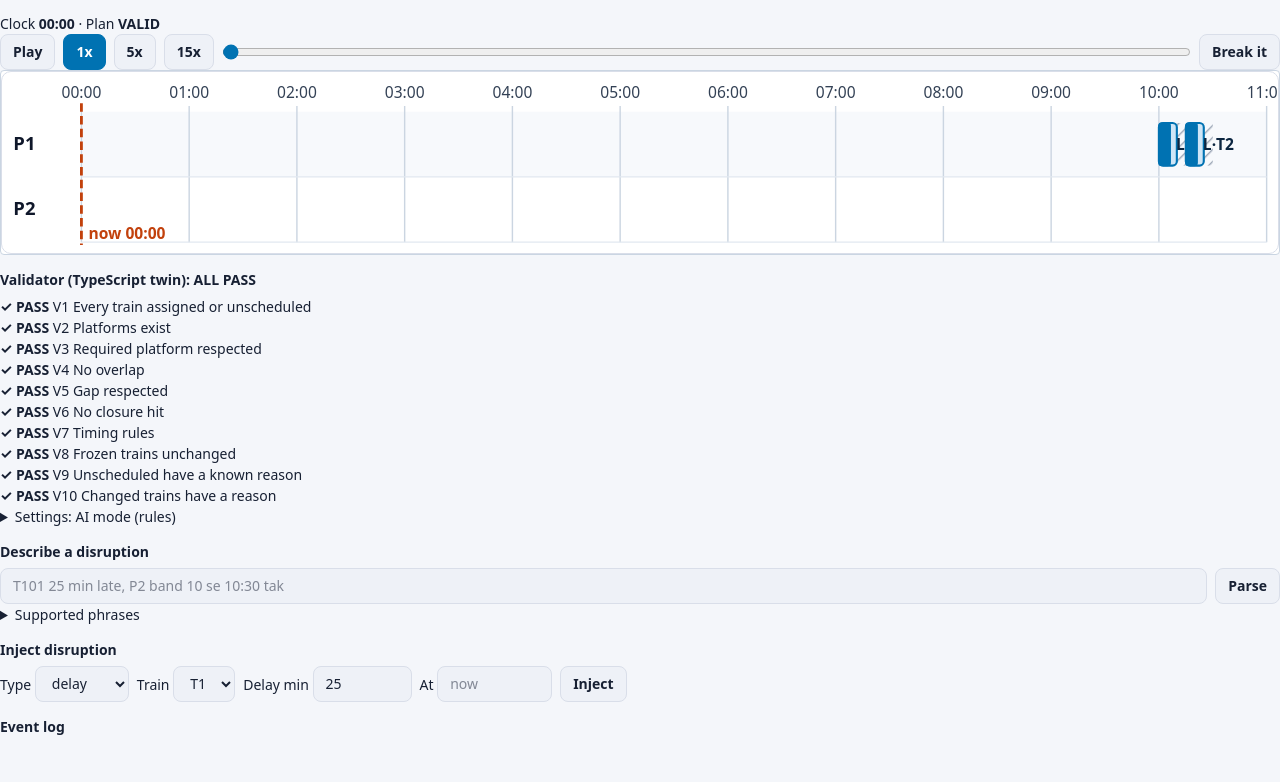
Scenario: SimulationPanel › inject, review, accept
Expected: the text with test id "live" reads "VALID", [118,14,160,32]
What coordinates should you click on to do the following:
click the button "Inject"
I would click on:
 (593, 684)
Its box is [560,666,627,702].
(page scrolled)
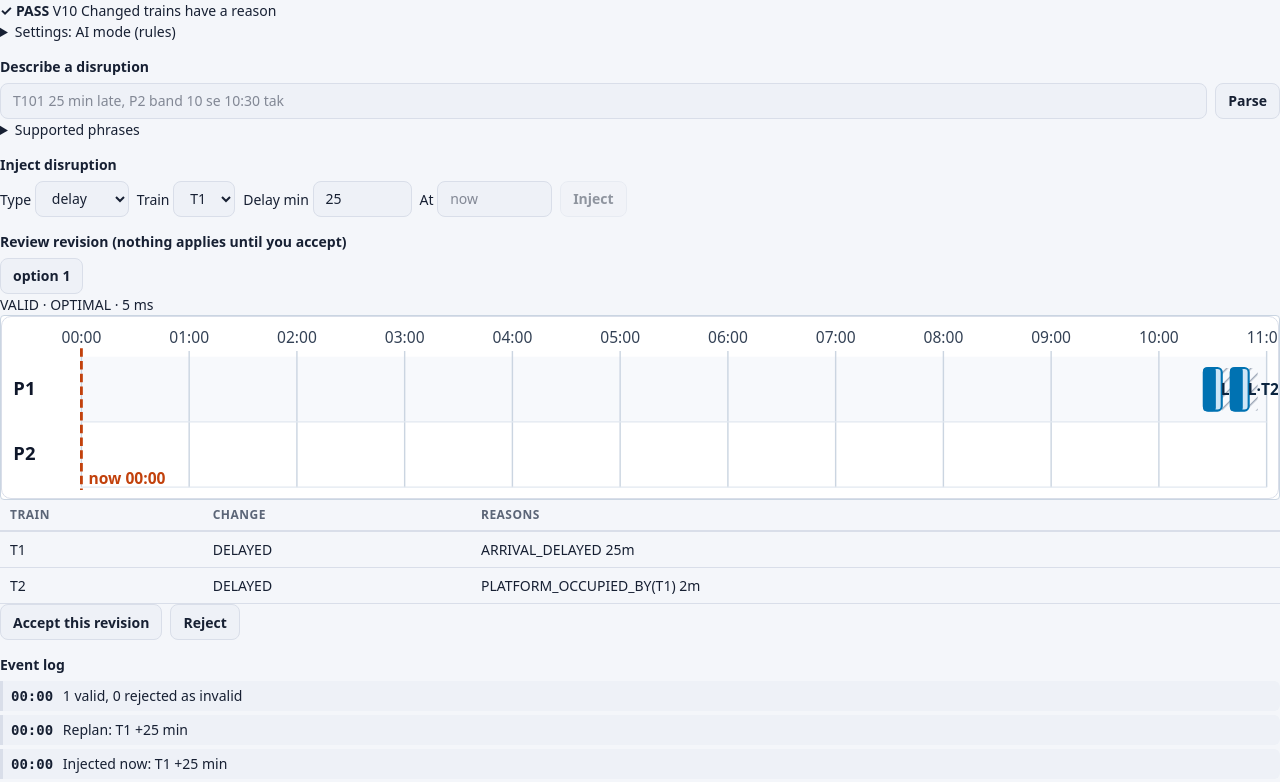
Expected: the table with test id "diff" shows "ARRIVAL_DELAYED", [481,540,635,559]
What coordinates should you click on to do the following:
click the button "Accept this revision"
I would click on:
 (81, 622)
Its box is [0,604,162,640].
(page scrolled)
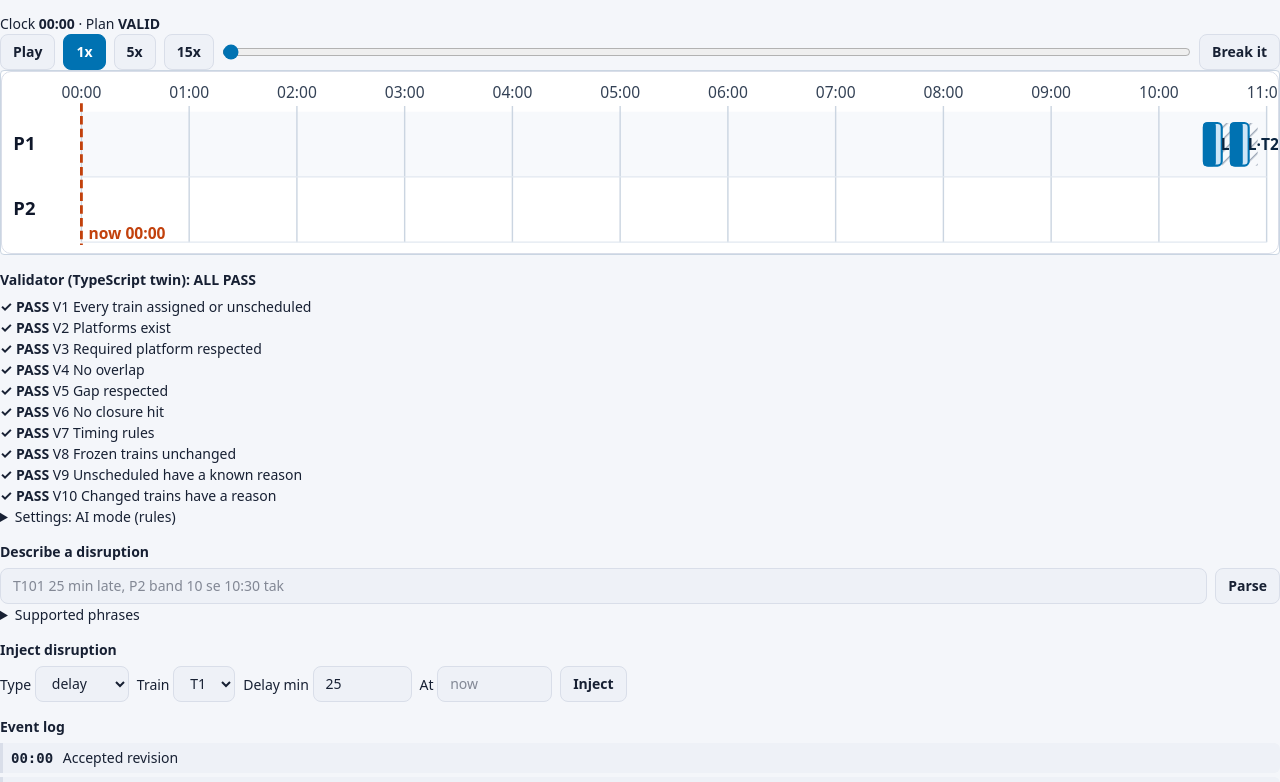
Expected: the text with test id "live" reads "VALID", [118,14,160,32]
Expected: the list item "00:00 Accepted revision" is shown, [0,743,1279,773]
Expected: the element with test id "review" is gone
